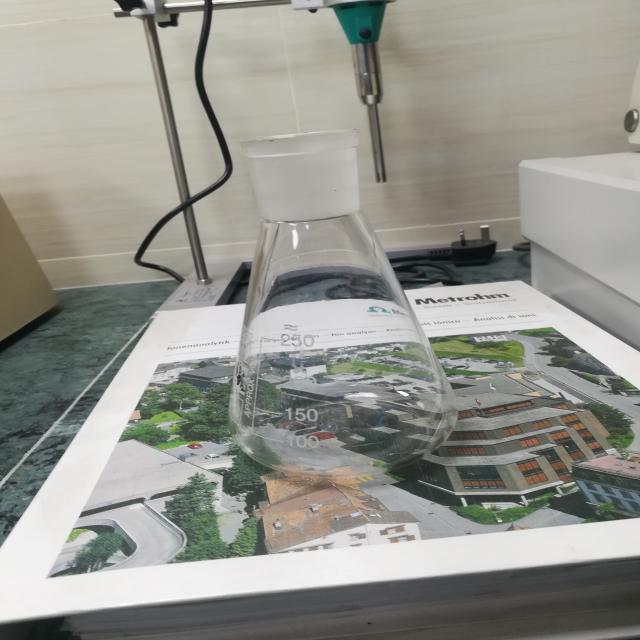Conical_Flask: (192, 89, 486, 493)
